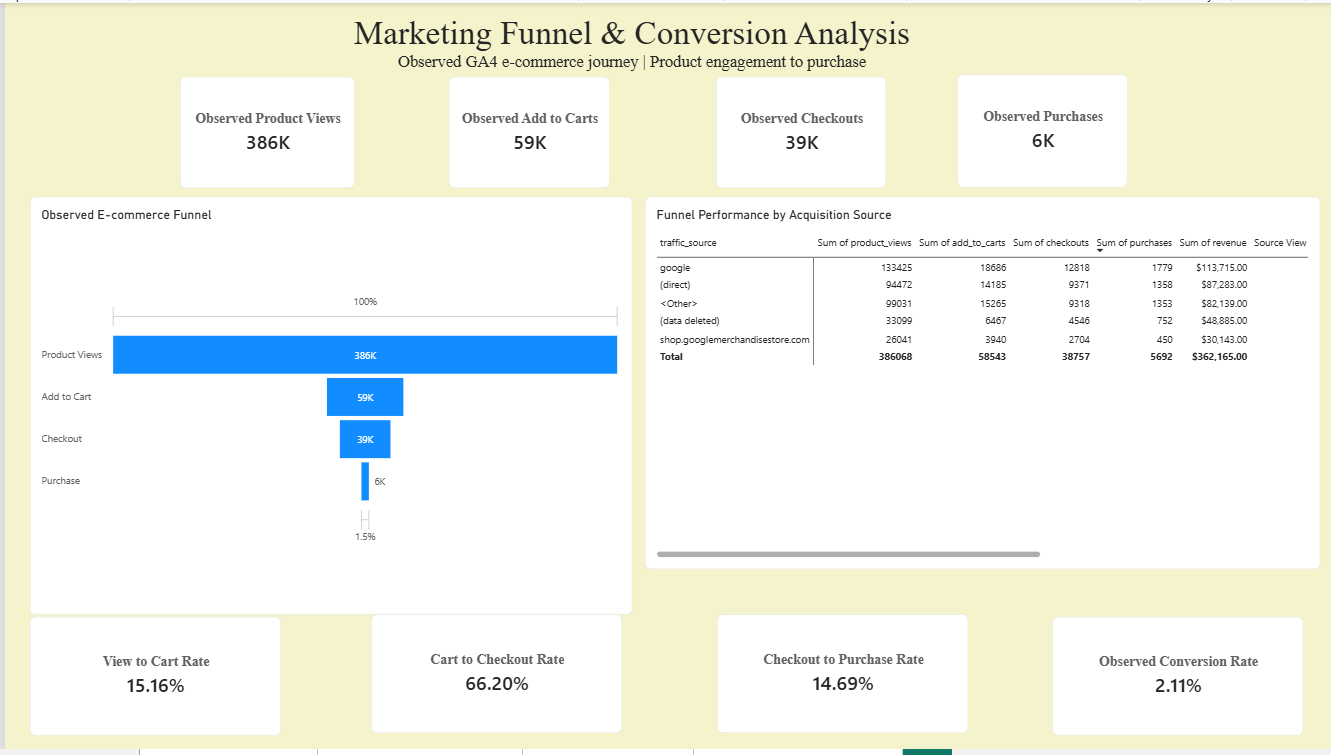

What the dashboard file says about the page in this screenshot:
{"tool":"powerbi","page":{"name":"Marketing Funnel","canvas":[1920,1080],"ordinal":2},"visuals":[{"type":"textbox","box":[253.4,16.3,1308.4,106.8],"z":0},{"type":"cardVisual","fields":{"Data":["Funnel_User.Observed Product Views"]},"box":[253.4,106.1,253.4,161.8],"z":1000,"group":"g1"},{"type":"cardVisual","fields":{"Data":["Funnel_User.Observed Add to Carts"]},"box":[642.5,106.1,233.4,161.8],"z":2000,"group":"g1"},{"type":"cardVisual","fields":{"Data":["Funnel_User.Observed Checkouts"]},"box":[1029.7,106.1,246.1,161.8],"z":3000,"group":"g1"},{"type":"cardVisual","fields":{"Data":["Funnel_User.Observed Purchases"]},"box":[1379,103.2,246.1,164.7],"z":4000,"group":"g1"},{"type":"funnel","title":"Observed E-commerce Funnel","fields":{"Category":["FunnelStages.Stage"],"Y":["FunnelStages.Funnel Count"]},"box":[36.2,280.5,872.3,604.4],"z":5000},{"type":"cardVisual","fields":{"Data":["FunnelStages.View to Cart Rate"]},"box":[36.2,888,364,172.1],"z":6000,"group":"g2"},{"type":"cardVisual","fields":{"Data":["FunnelStages.Cart to Checkout Rate"]},"box":[529.9,884.9,364,172.1],"z":7000,"group":"g2"},{"type":"cardVisual","fields":{"Data":["FunnelStages.Checkout to Purchase Rate"]},"box":[1031.2,885,364,172.1],"z":8000,"group":"g2"},{"type":"cardVisual","fields":{"Data":["Funnel_User.Observed Conversion Rate"]},"box":[1516.3,888.4,364,172.1],"z":9000,"group":"g2"},{"type":"pivotTable","title":"Funnel Performance by Acquisition Source","fields":{"Rows":["Funnel_Channel.traffic_source"],"Values":["Sum(Funnel_Channel.product_views)","Sum(Funnel_Channel.add_to_carts)","Sum(Funnel_Channel.checkouts)","Sum(Funnel_Channel.purchases)","Sum(Funnel_Channel.revenue)","Funnel_Channel.Source View to Cart Rate","Funnel_Channel.Source Checkout to Purchase Rate","Funnel_Channel.Source Cart to Checkout Rate"]},"box":[926.5,280.5,977.2,539.3],"z":10000},{"type":"group","id":"g1","title":"Group 1","box":[253.4,103.2,1371.7,164.7],"z":10002},{"type":"group","id":"g2","title":"Group 2","box":[36.2,884.9,1844,175.5],"z":10003}]}

Visuals, with their boxes in screenshot pixels (x1, y1, x2, y2), scaled from the page's 1920x1080 canvas onto the 1331x755 screenshot:
textbox: (176, 11, 1083, 86)
cardVisual - Funnel_User.Observed Product Views: (176, 74, 351, 187)
cardVisual - Funnel_User.Observed Add to Carts: (445, 74, 607, 187)
cardVisual - Funnel_User.Observed Checkouts: (714, 74, 884, 187)
cardVisual - Funnel_User.Observed Purchases: (956, 72, 1127, 187)
"Observed E-commerce Funnel" funnel: (25, 196, 630, 619)
cardVisual - FunnelStages.View to Cart Rate: (25, 621, 277, 741)
cardVisual - FunnelStages.Cart to Checkout Rate: (367, 619, 620, 739)
cardVisual - FunnelStages.Checkout to Purchase Rate: (715, 619, 967, 739)
cardVisual - Funnel_User.Observed Conversion Rate: (1051, 621, 1303, 741)
"Funnel Performance by Acquisition Source" pivotTable: (642, 196, 1320, 573)
"Group 1" group: (176, 72, 1127, 187)
"Group 2" group: (25, 619, 1303, 741)
